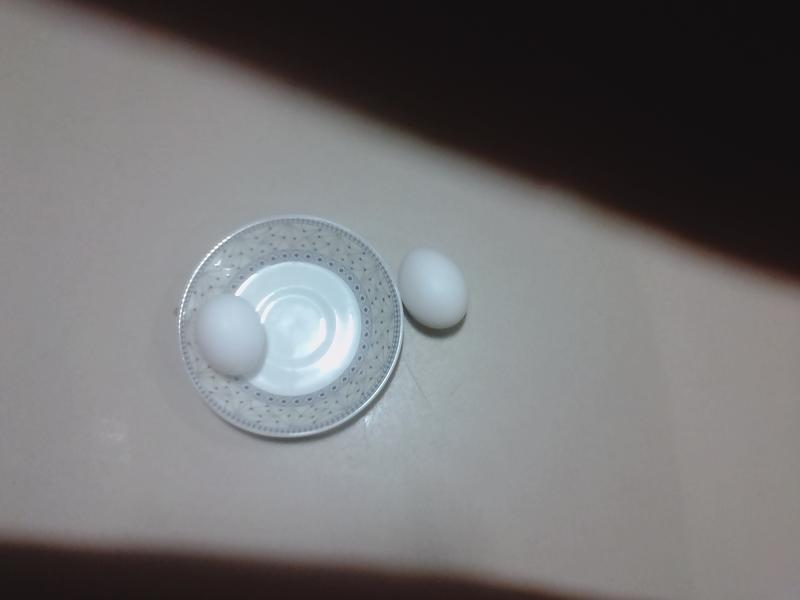egg: (185, 291, 275, 379)
